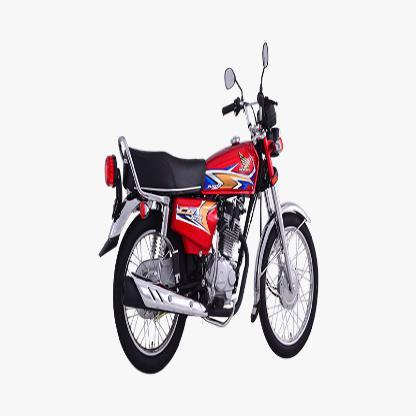Motorcycle: (98, 30, 322, 373)
